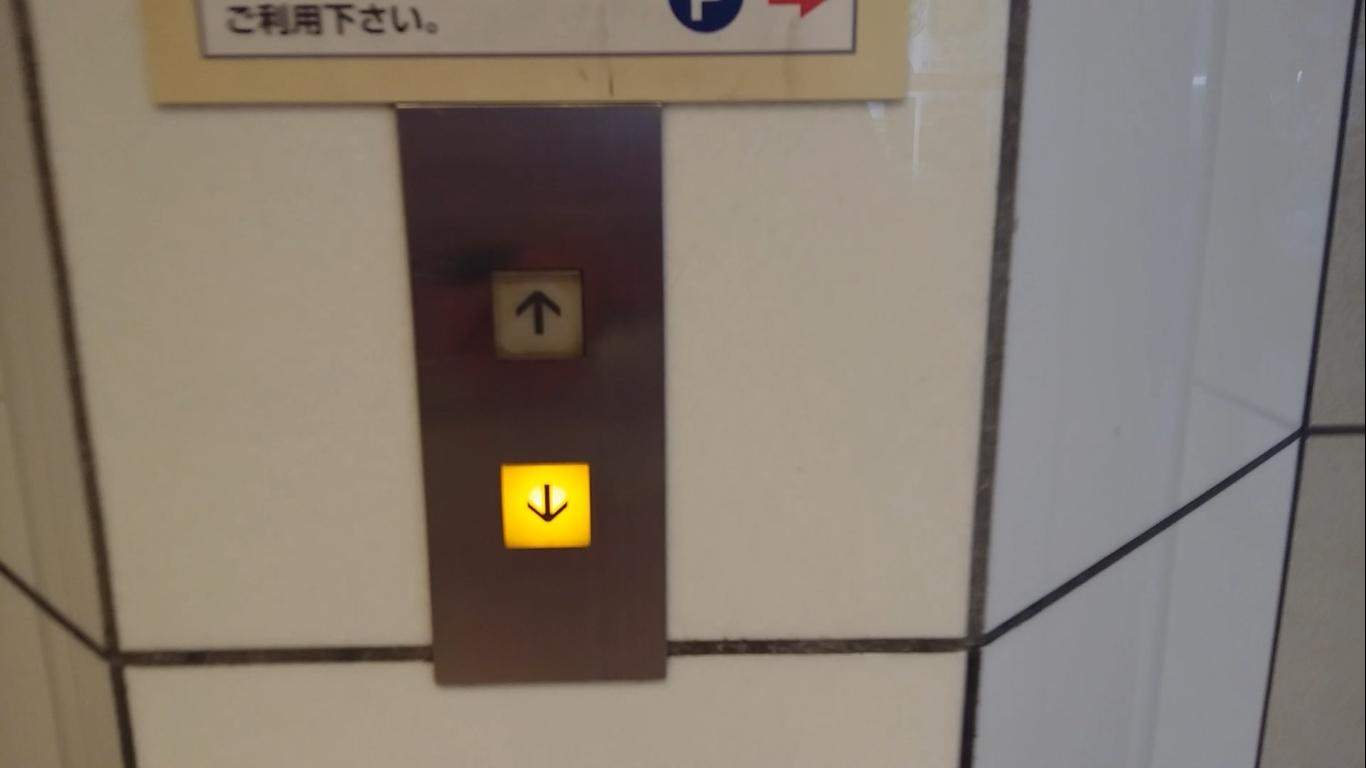down: (494, 457, 598, 556)
up: (483, 260, 593, 370)
